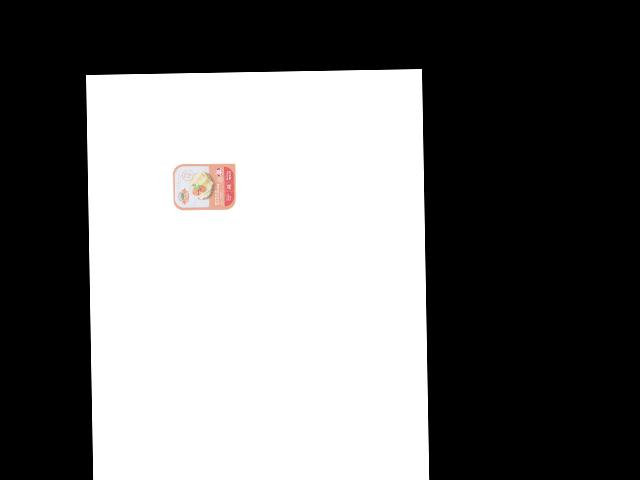cheese: (171, 162, 240, 213)
